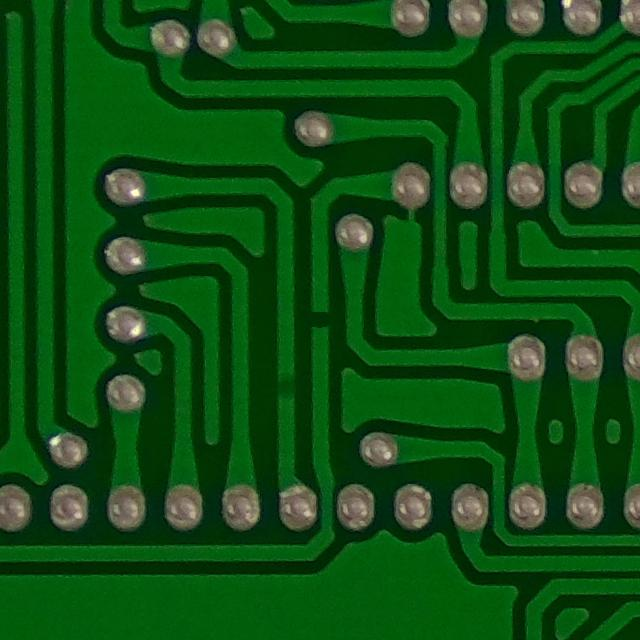open_circuit: (306, 302, 335, 339)
